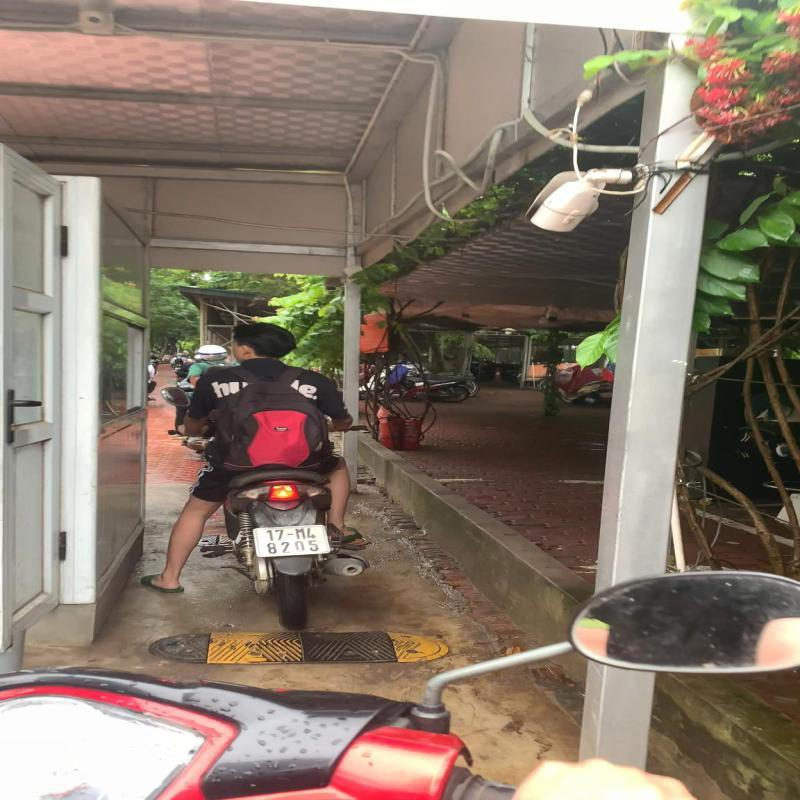licenseplate: (253, 524, 332, 557)
motorcyclist: (136, 320, 390, 632)
nohelmet: (233, 323, 296, 362)
